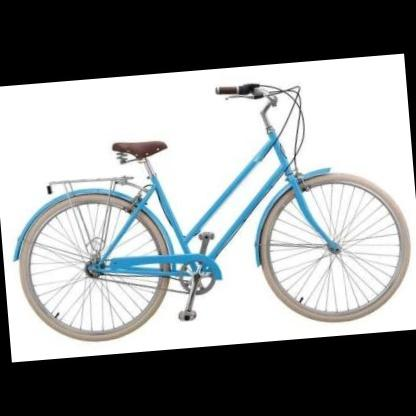Bicycle: (4, 72, 410, 340)
